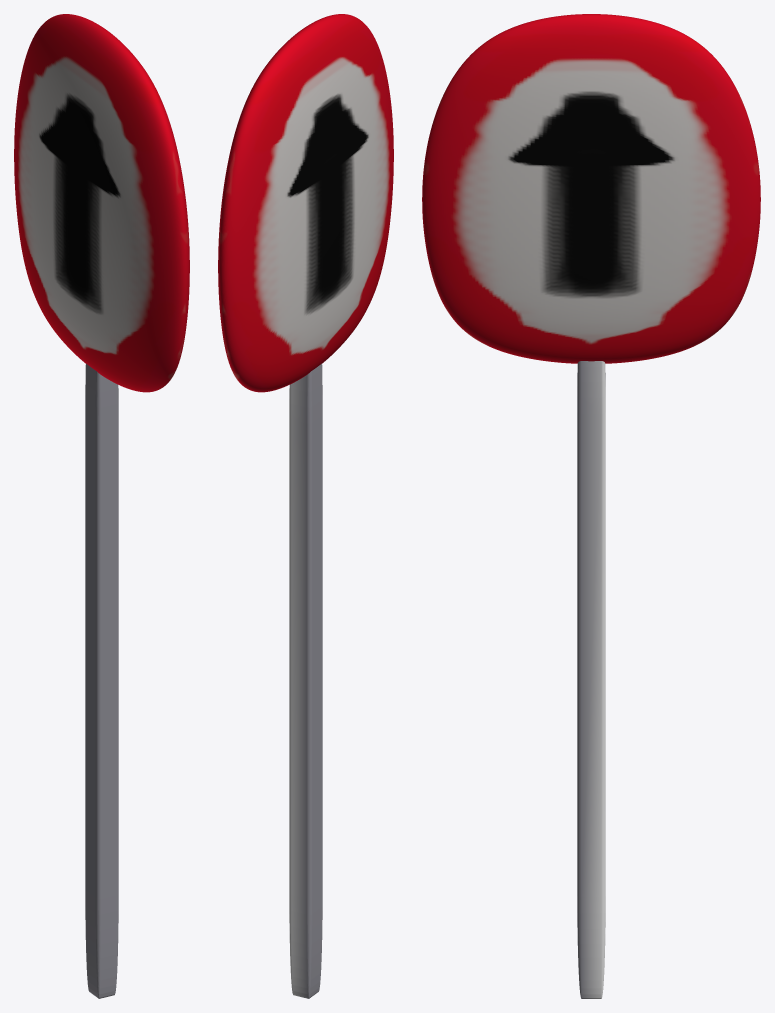
Rendered from Placa.fbx.
The picture shows the model from 3 angles, left to right: view 1: azimuth 30°, elevation 25°; view 2: azimuth 150°, elevation 25°; view 3: azimuth 270°, elevation 25°; orthographic projection.
Visible parts, largest first — view 1: Cube.001, Cube; view 2: Cube.001, Cube; view 3: Cube.001, Cube.
Part boxes in pixels (<box>): Cube.001: <box>14,14,189,392</box>; Cube: <box>85,363,118,998</box>; Cube.001: <box>218,14,393,392</box>; Cube: <box>289,363,322,998</box>; Cube.001: <box>422,14,760,363</box>; Cube: <box>577,361,605,998</box>.
Bounding box in the file's own units: 95.3 × 1718 × 538.
